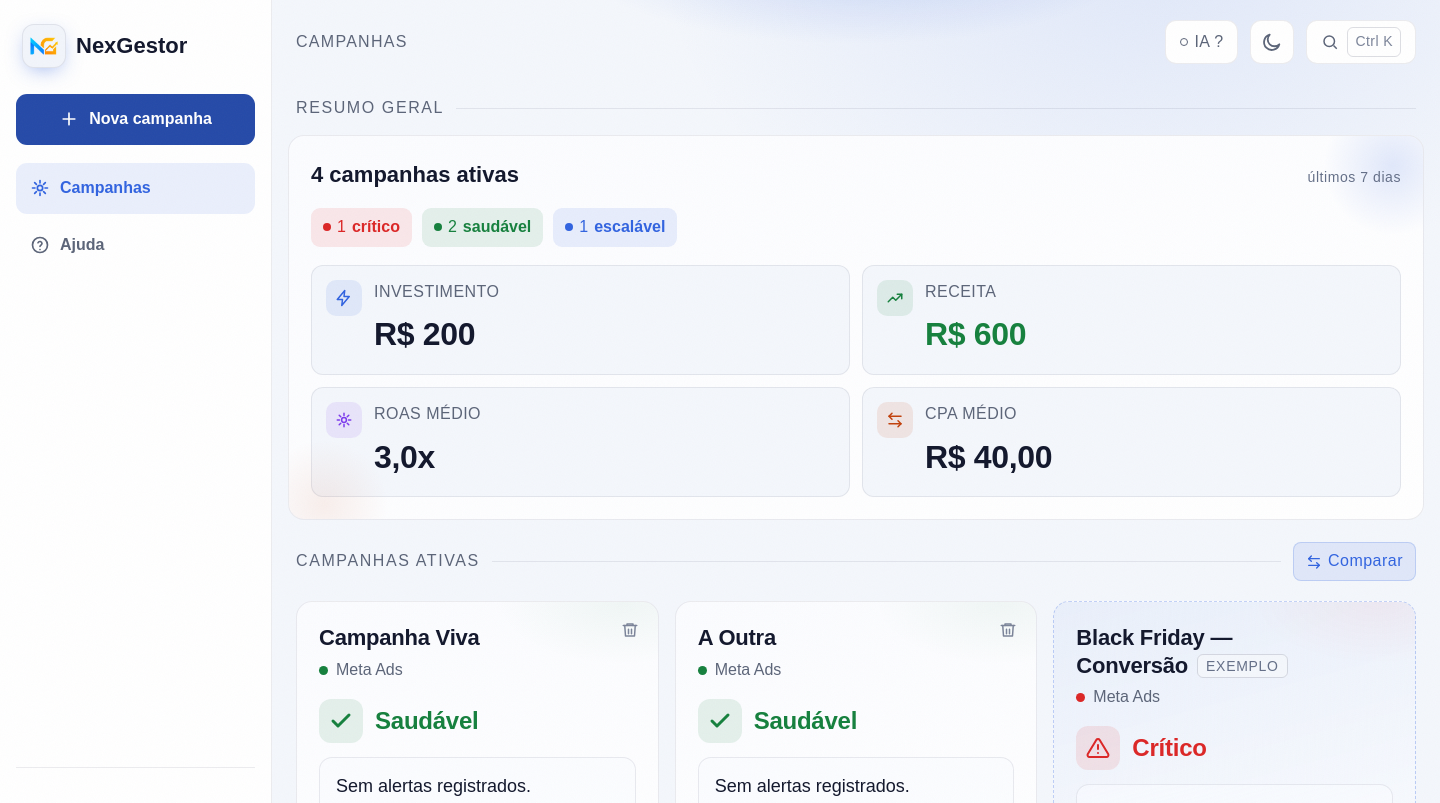
Test: apagar pela Home › apaga só a campanha escolhida
Click the button named "Apagar campanha A Outra" at x=1008, y=630, box 988,610 -> 1028,650
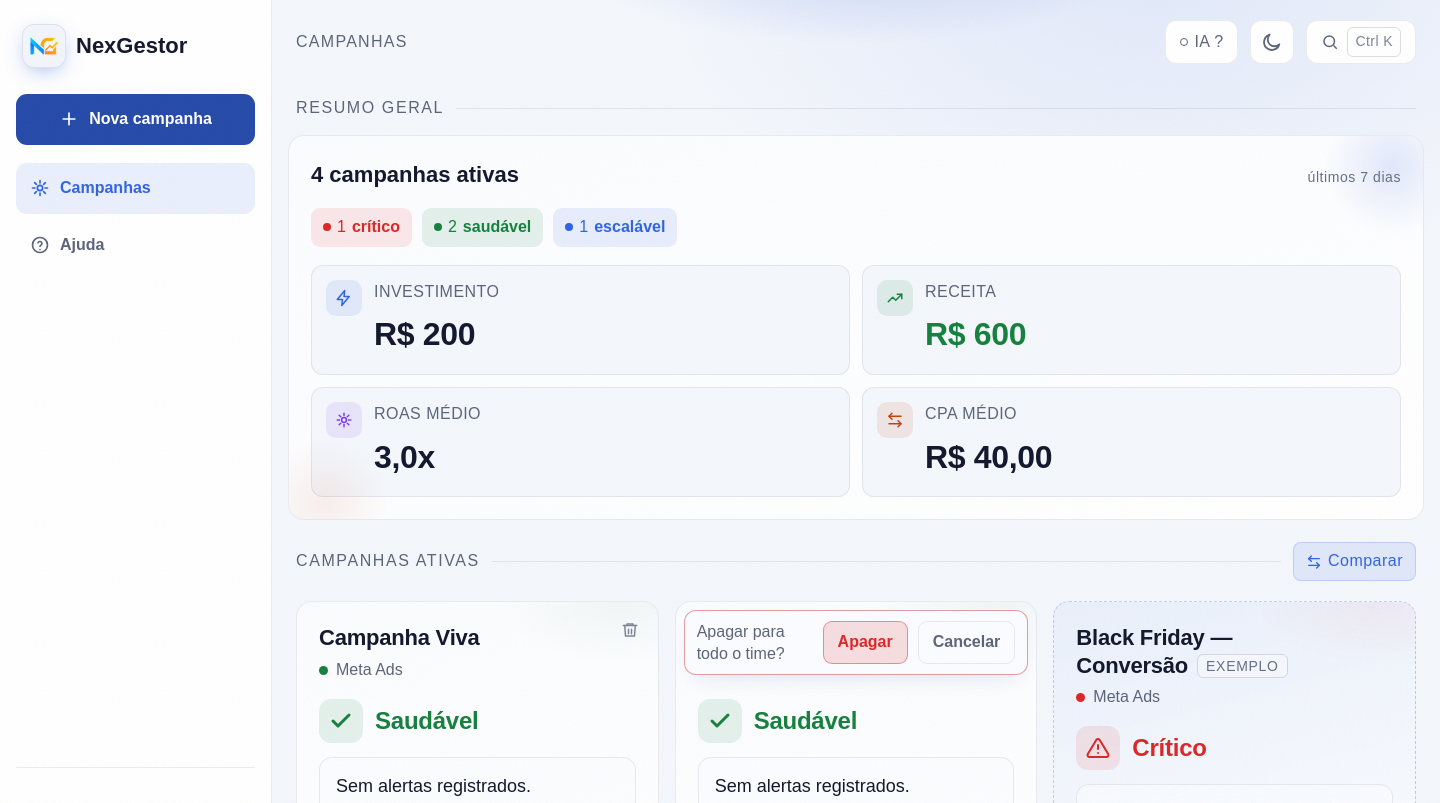
Click the button "Apagar" at x=865, y=643, box 823,622 -> 908,664
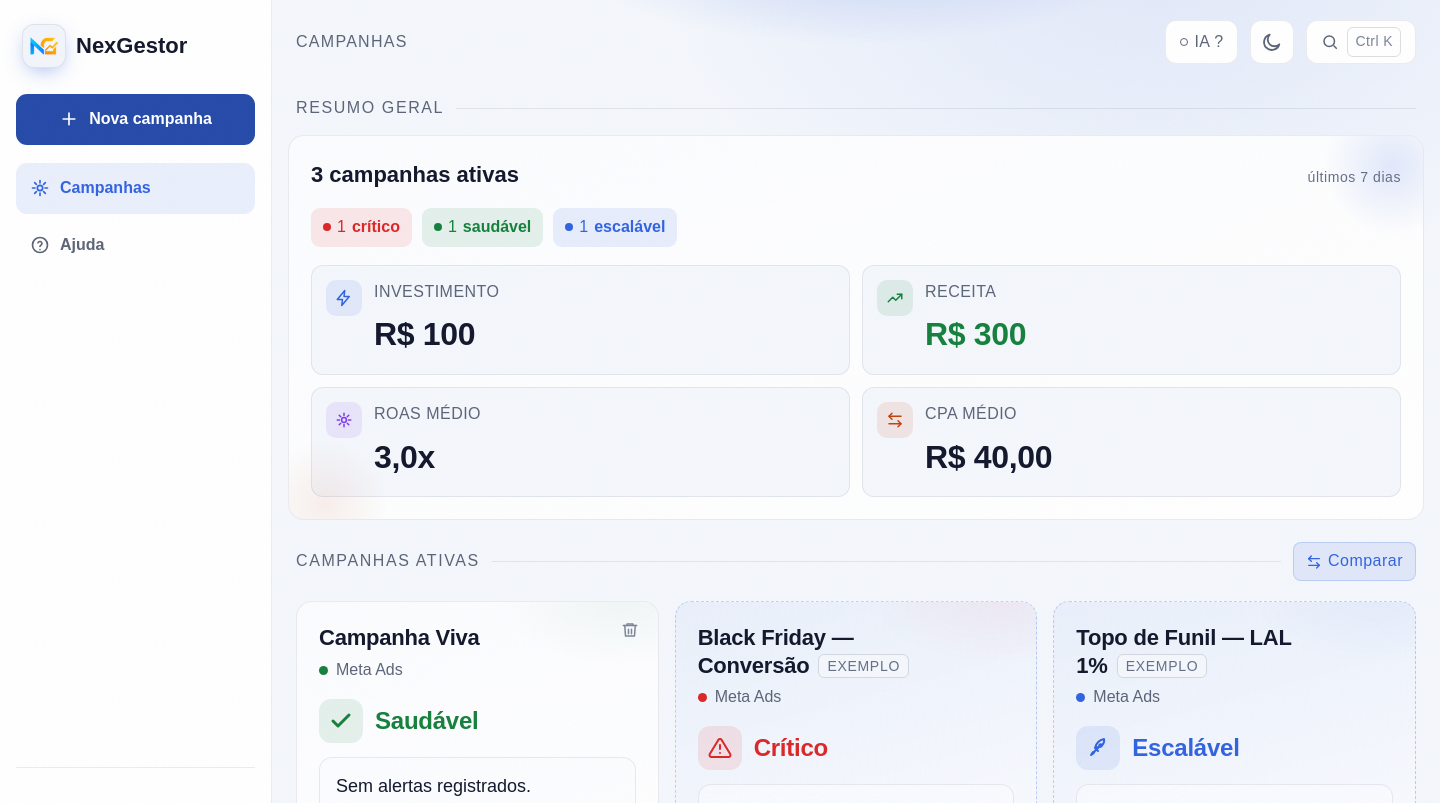
Expected: the text "Campanha Viva" is shown, 319,625 -> 480,650
Expected: the button "A Outra" is gone
